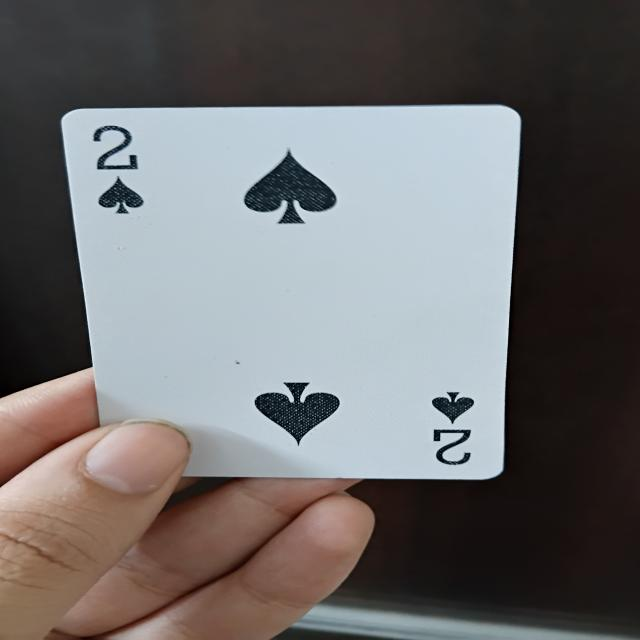2S: (67, 113, 510, 482)
